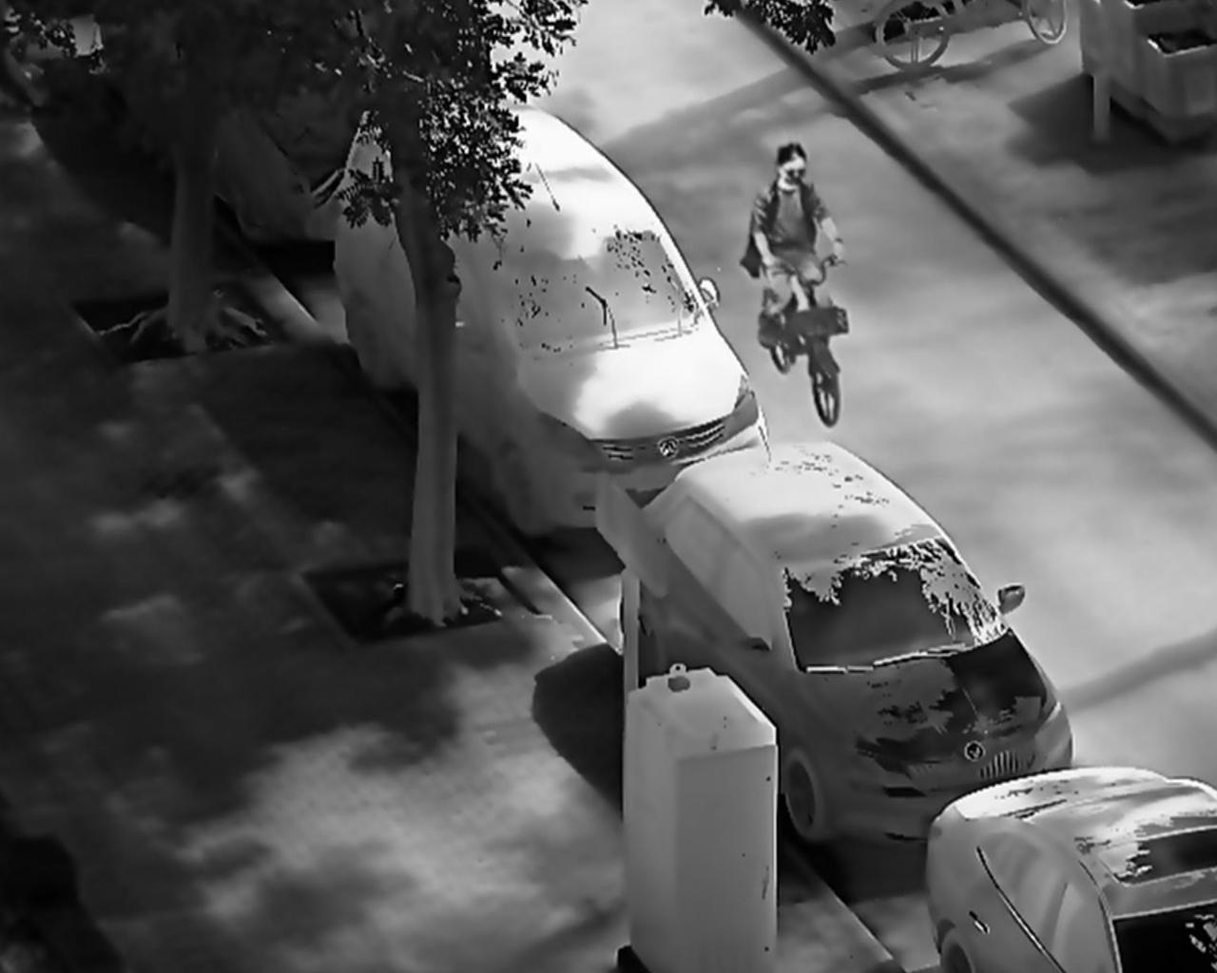person: (743, 139, 852, 341)
